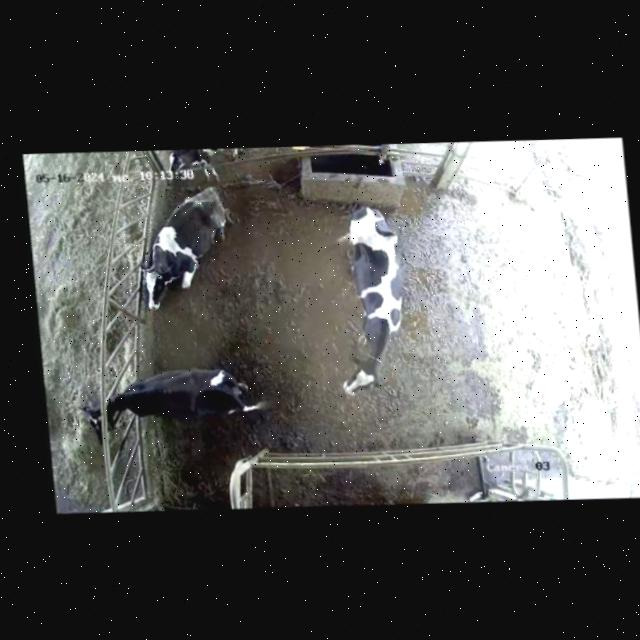eat: (67, 367, 169, 448)
lay: (124, 171, 255, 317)
stand: (315, 199, 432, 419)
